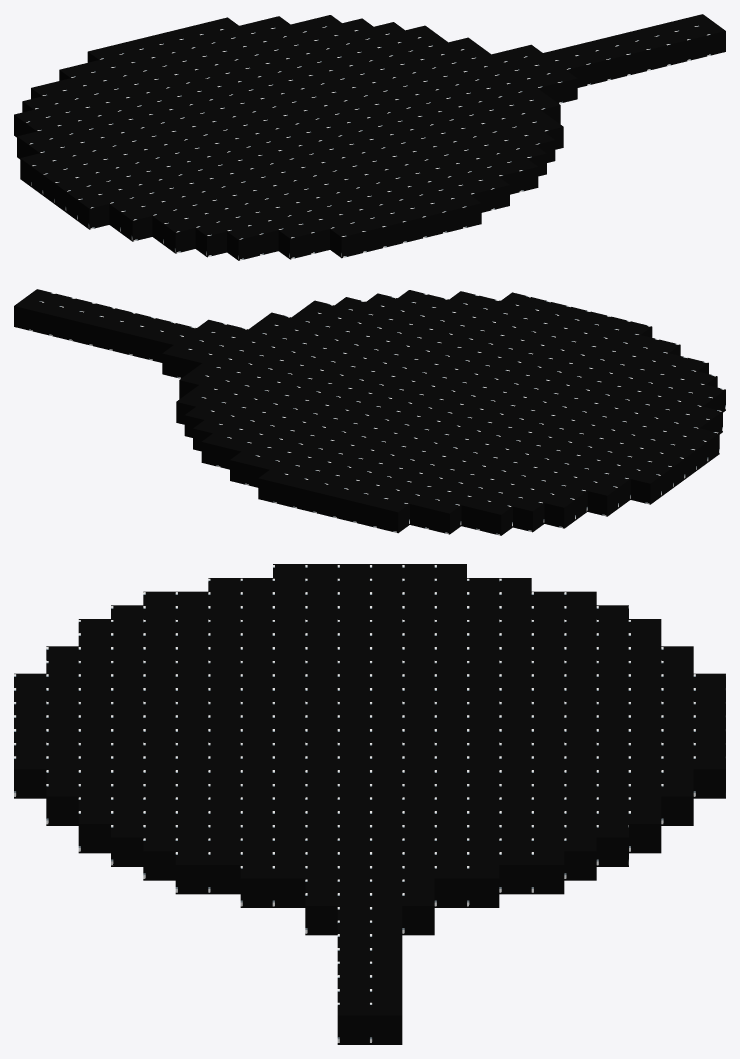
Rendered from specchio_usv.gltf.
The picture shows the model from 3 angles, top to bottom: view 1: azimuth 30°, elevation 25°; view 2: azimuth 150°, elevation 25°; view 3: azimuth 270°, elevation 25°; orthographic projection. The views are drawn at different scales.
Visible parts, largest first — view 1: Layer.2, Layer.1; view 2: Layer.2, Layer.1; view 3: Layer.2, Layer.1.
Part boxes in pixels (<box>): Layer.2: <box>46,29,625,222</box>; Layer.1: <box>14,14,725,260</box>; Layer.2: <box>114,306,693,497</box>; Layer.1: <box>14,289,725,535</box>; Layer.2: <box>78,591,661,946</box>; Layer.1: <box>14,564,725,1044</box>.
Bounding box in the file's own units: 33 × 1 × 22.
1 material, 1 textured.
